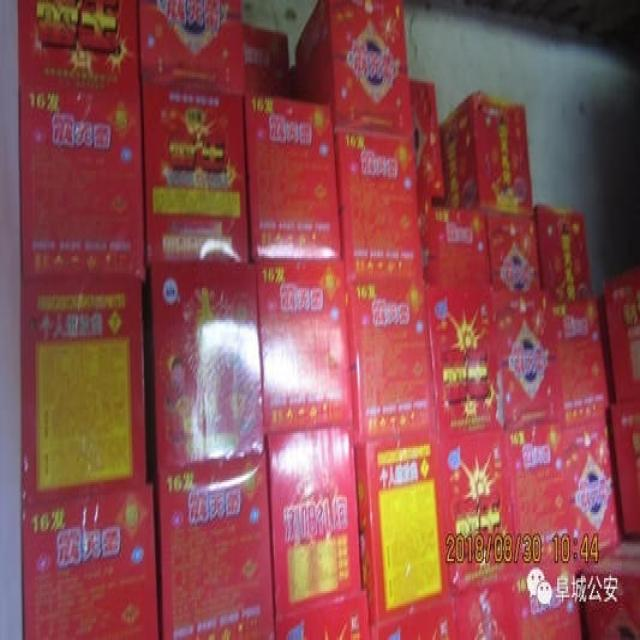box: (152, 262, 275, 640), (17, 0, 145, 277), (19, 277, 146, 510), (20, 486, 158, 640), (264, 425, 363, 617), (140, 92, 249, 265), (355, 429, 448, 625), (503, 420, 582, 640), (255, 260, 353, 435), (294, 0, 415, 139), (243, 94, 342, 262), (343, 273, 436, 446), (437, 431, 518, 597), (333, 132, 424, 279), (425, 284, 504, 444), (439, 92, 534, 215), (491, 286, 563, 433), (137, 0, 244, 96), (563, 416, 622, 572), (550, 299, 612, 425), (418, 194, 491, 288), (582, 535, 640, 640), (536, 205, 596, 301), (274, 587, 371, 640), (603, 267, 640, 403), (480, 207, 540, 290), (447, 580, 522, 640), (611, 393, 640, 535), (409, 77, 443, 196), (244, 23, 294, 102), (370, 597, 457, 640)
